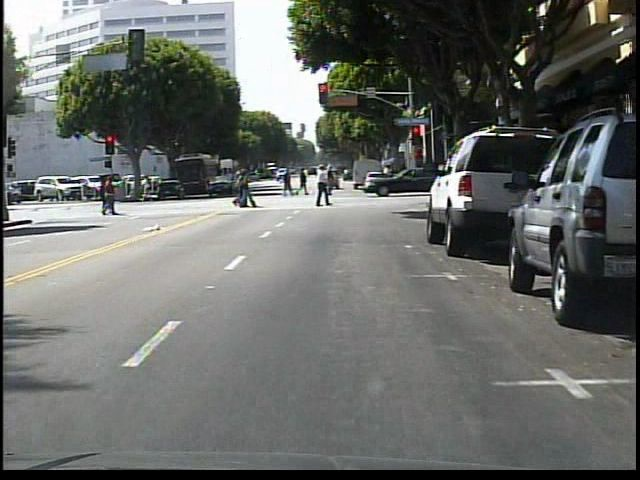person: (313, 163, 336, 214), (139, 172, 158, 202), (327, 167, 341, 196)
